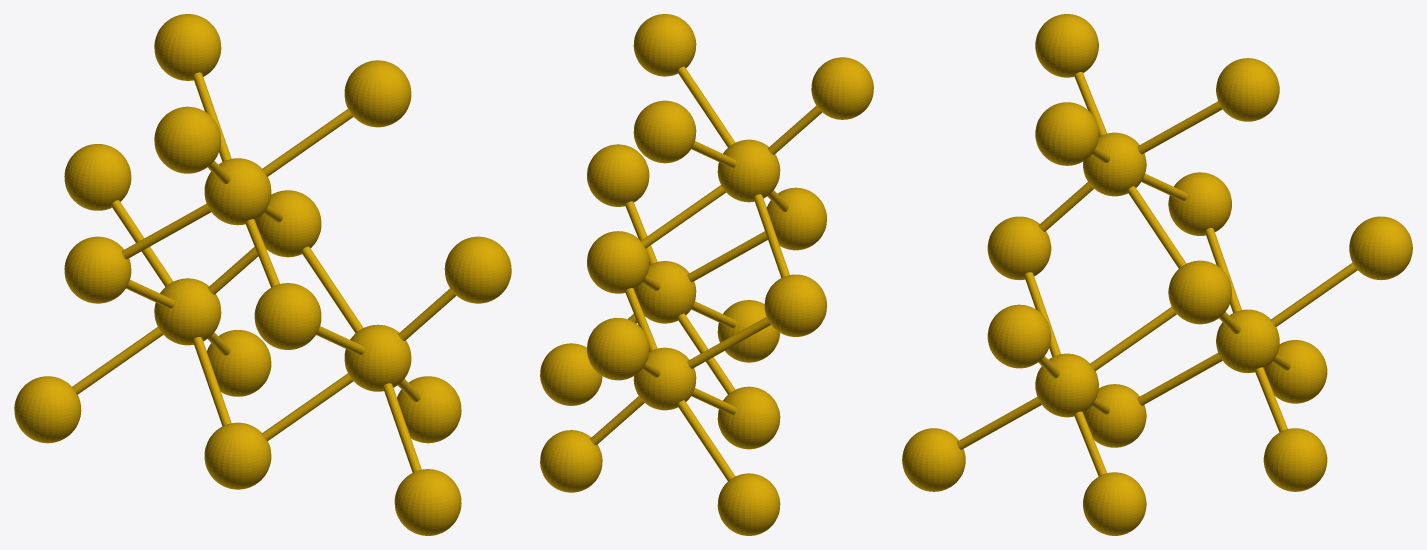
The model's file is tellurium.dae.
3 views of the same model, side by side, from view 1: azimuth 30°, elevation 25°; view 2: azimuth 150°, elevation 25°; view 3: azimuth 270°, elevation 25° (orthographic). The views are drawn at different scales.
Visible parts, largest first — view 1: Ball_Tellurium_008, Ball_Tellurium_015, Ball_Tellurium_009, Ball_Tellurium_014, Ball_Tellurium_007, Ball_Tellurium_005, Ball_Tellurium_011, Ball_Tellurium_003, Ball_Tellurium_013, Ball_Tellurium_016, Ball_Tellurium_006, Ball_Tellurium_002 (+4 smaller); view 2: Ball_Tellurium_003, Ball_Tellurium_013, Ball_Tellurium_014, Ball_Tellurium_011, Ball_Tellurium_016, Ball_Tellurium_012, Ball_Tellurium_009, Ball_Tellurium_015, Ball_Tellurium_004, Ball_Tellurium_005, Ball_Tellurium_010, Ball_Tellurium_006 (+4 smaller); view 3: Ball_Tellurium_015, Ball_Tellurium_016, Ball_Tellurium_009, Ball_Tellurium_004, Ball_Tellurium_012, Ball_Tellurium_010, Ball_Tellurium_013, Ball_Tellurium_014, Ball_Tellurium_007, Ball_Tellurium_008, Ball_Tellurium_001, Ball_Tellurium_003 (+4 smaller).
Part boxes in pixels (<box>): Ball_Tellurium_008: <box>254,283,321,349</box>; Ball_Tellurium_015: <box>344,60,411,127</box>; Ball_Tellurium_009: <box>444,236,511,303</box>; Ball_Tellurium_014: <box>154,106,221,173</box>; Ball_Tellurium_007: <box>394,469,461,535</box>; Ball_Tellurium_005: <box>204,422,271,489</box>; Ball_Tellurium_011: <box>14,376,81,443</box>; Ball_Tellurium_003: <box>64,236,131,303</box>; Ball_Tellurium_013: <box>64,144,131,210</box>; Ball_Tellurium_016: <box>154,14,221,80</box>; Ball_Tellurium_006: <box>204,158,271,225</box>; Ball_Tellurium_002: <box>154,278,221,345</box>; Ball_Tellurium_003: <box>764,274,826,336</box>; Ball_Tellurium_013: <box>587,318,649,380</box>; Ball_Tellurium_014: <box>811,57,873,119</box>; Ball_Tellurium_011: <box>717,473,780,535</box>; Ball_Tellurium_016: <box>633,100,696,163</box>; Ball_Tellurium_012: <box>540,430,602,492</box>; Ball_Tellurium_009: <box>587,144,649,206</box>; Ball_Tellurium_015: <box>633,14,696,76</box>; Ball_Tellurium_004: <box>587,231,649,293</box>; Ball_Tellurium_005: <box>717,386,780,449</box>; Ball_Tellurium_010: <box>540,343,602,405</box>; Ball_Tellurium_006: <box>717,139,780,202</box>; Ball_Tellurium_015: <box>1035,102,1098,165</box>; Ball_Tellurium_016: <box>1216,58,1279,121</box>; Ball_Tellurium_009: <box>987,304,1051,368</box>; Ball_Tellurium_004: <box>1168,260,1231,324</box>; Ball_Tellurium_012: <box>1263,428,1327,491</box>; Ball_Tellurium_010: <box>1083,472,1146,535</box>; Ball_Tellurium_013: <box>1349,216,1412,279</box>; Ball_Tellurium_014: <box>1035,14,1098,77</box>; Ball_Tellurium_007: <box>902,428,965,491</box>; Ball_Tellurium_008: <box>987,216,1051,280</box>; Ball_Tellurium_001: <box>1035,353,1098,417</box>; Ball_Tellurium_003: <box>1168,172,1231,235</box>.
Bounding box in the file's own units: 8.04 × 10.9 × 9.25.
